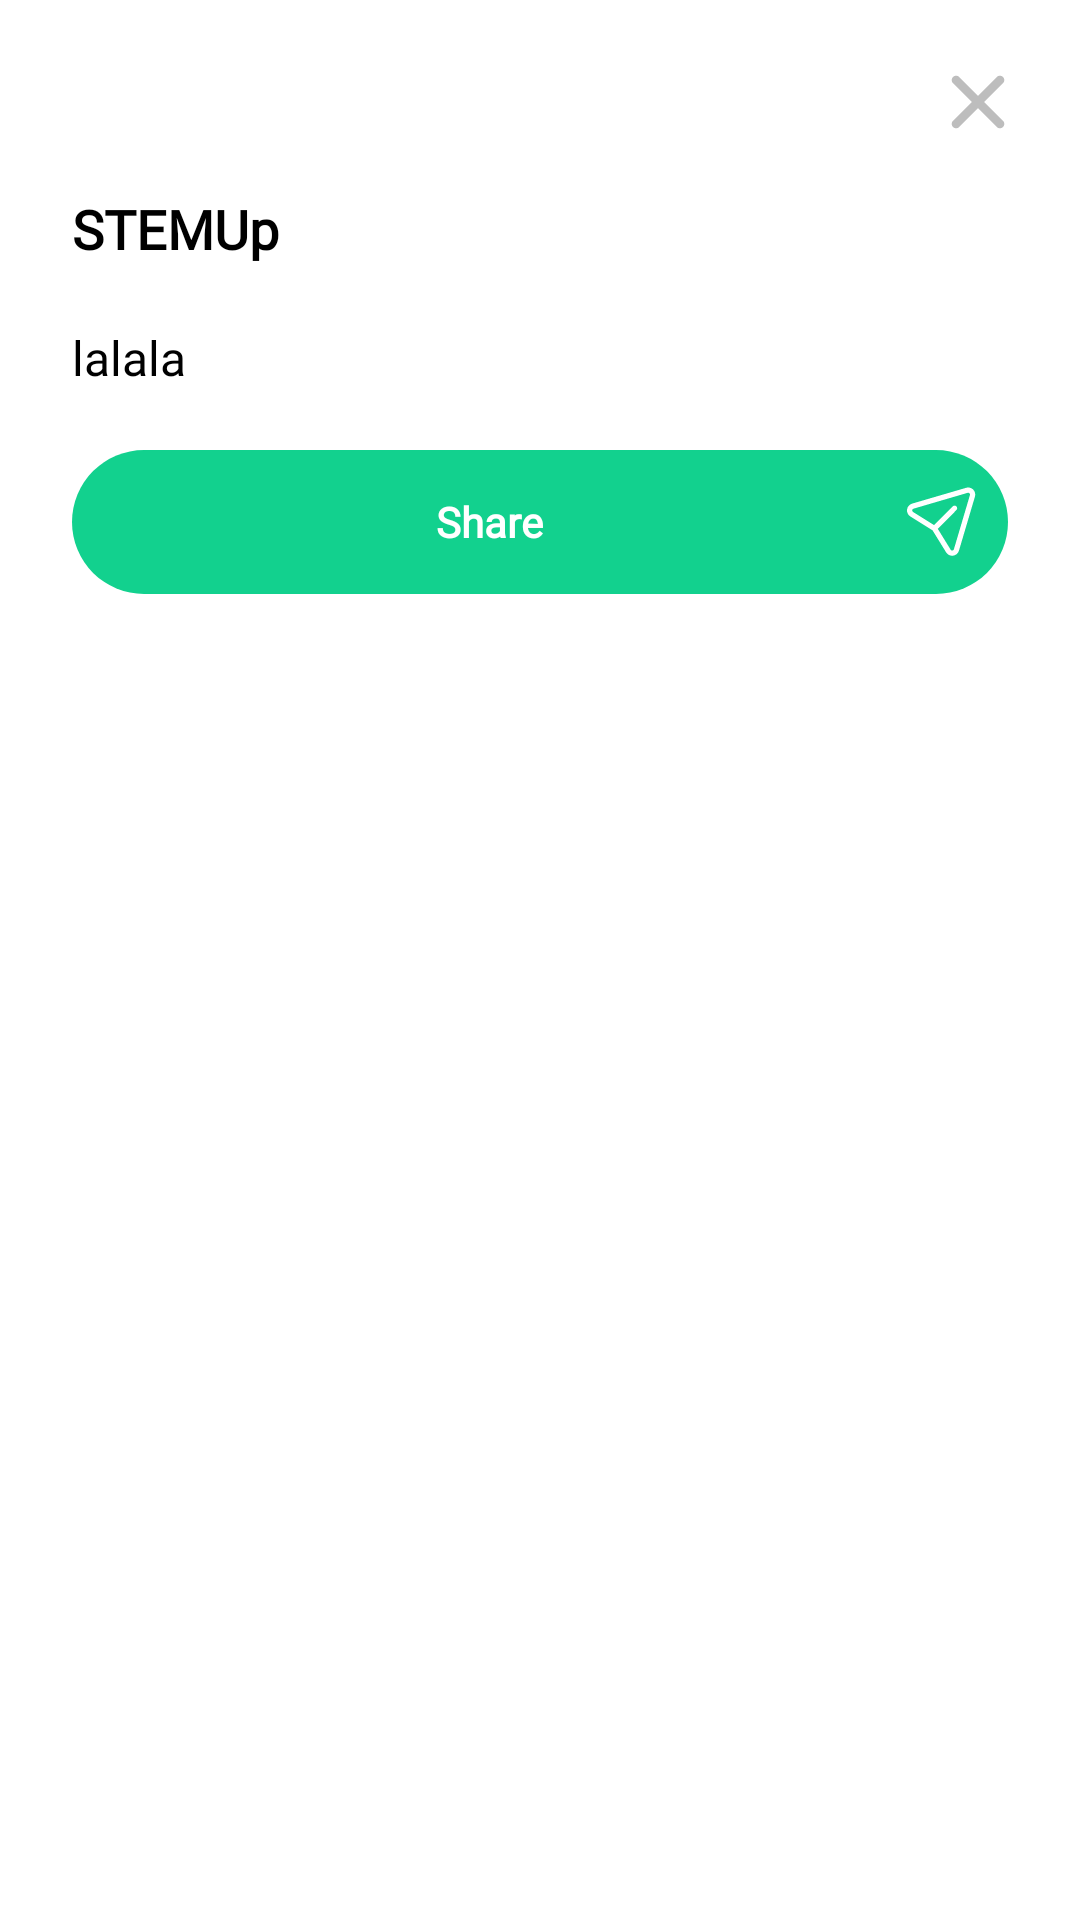

Named icons in this screenshot (1080w x 1920h) and their centers, point (x, y):
close: point (978, 102)
